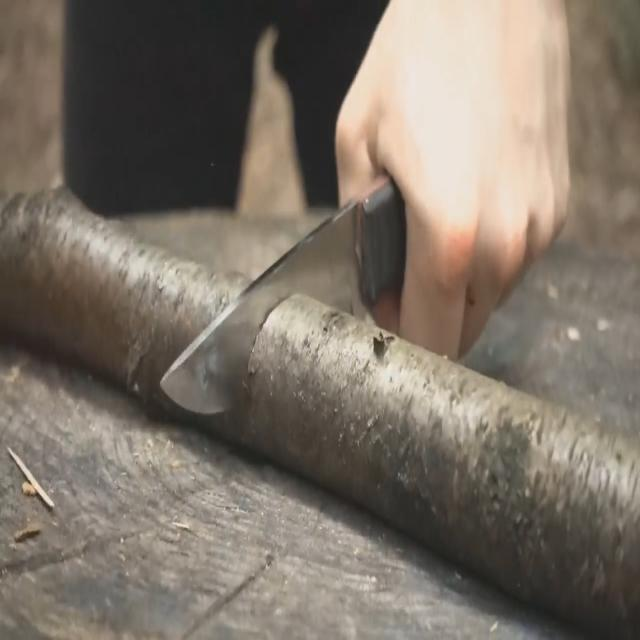knife: (158, 175, 408, 430)
